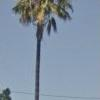Palm tree: (15, 0, 55, 98)
